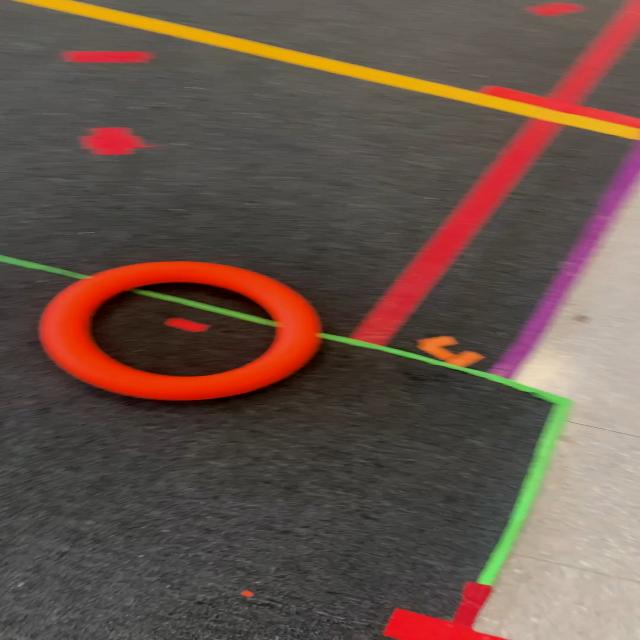notes: (40, 260, 328, 402)
